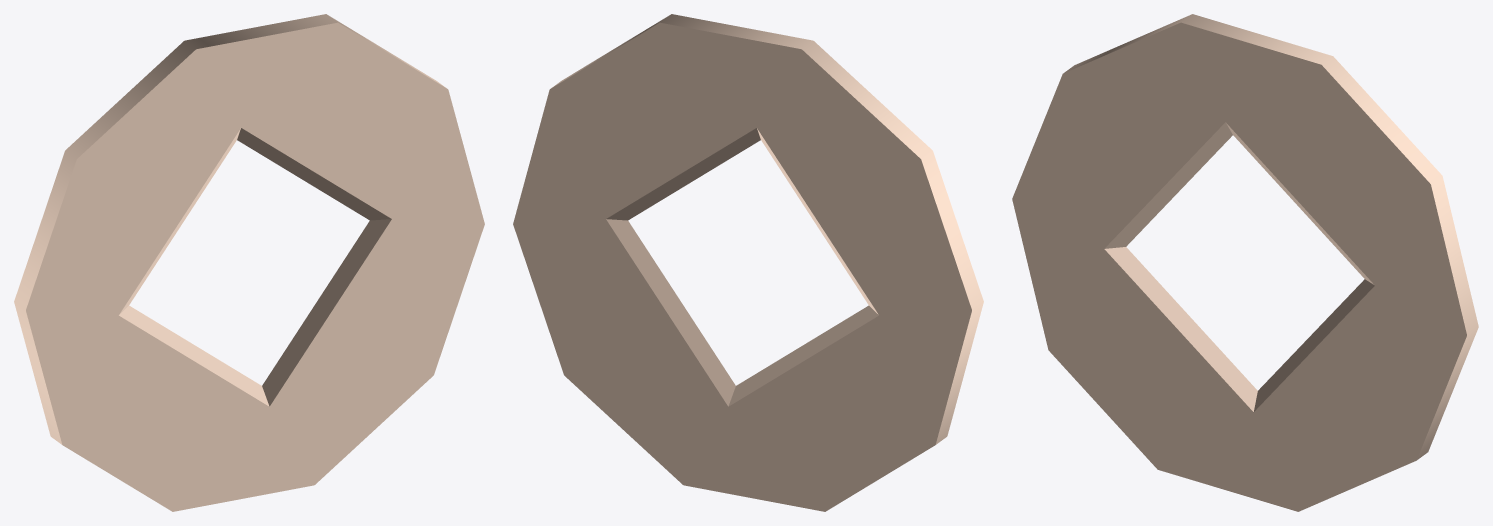
Rendered from Rondelle Aiguille Minutes.obj.
3 views of the same model, side by side, from view 1: azimuth 30°, elevation 25°; view 2: azimuth 150°, elevation 25°; view 3: azimuth 330°, elevation 25° (orthographic).
Parts seen in each view (by area): view 1: Face_7, Face_2, Face_11, Face_9, Face_8, Face_10; view 2: Face_1, Face_2, Face_6, Face_4, Face_3, Face_5; view 3: Face_7, Face_2, Face_9, Face_10, Face_11, Face_8.
Boxes of the visible parts, bbox=[...] form: Face_7: bbox=[26, 22, 484, 511]; Face_2: bbox=[14, 14, 446, 444]; Face_11: bbox=[262, 219, 391, 406]; Face_9: bbox=[119, 305, 269, 406]; Face_8: bbox=[237, 128, 391, 220]; Face_10: bbox=[119, 128, 240, 314]; Face_1: bbox=[513, 22, 971, 511]; Face_2: bbox=[551, 14, 983, 444]; Face_6: bbox=[606, 219, 735, 406]; Face_4: bbox=[728, 305, 878, 406]; Face_3: bbox=[606, 128, 760, 220]; Face_5: bbox=[757, 128, 878, 314]; Face_7: bbox=[1012, 22, 1466, 511]; Face_2: bbox=[1063, 14, 1478, 460]; Face_9: bbox=[1104, 247, 1257, 411]; Face_10: bbox=[1104, 122, 1232, 248]; Face_11: bbox=[1254, 279, 1374, 411]; Face_8: bbox=[1226, 123, 1373, 284].
Size of the model in its own units: 0.018 by 0.0174 by 0.0008.
